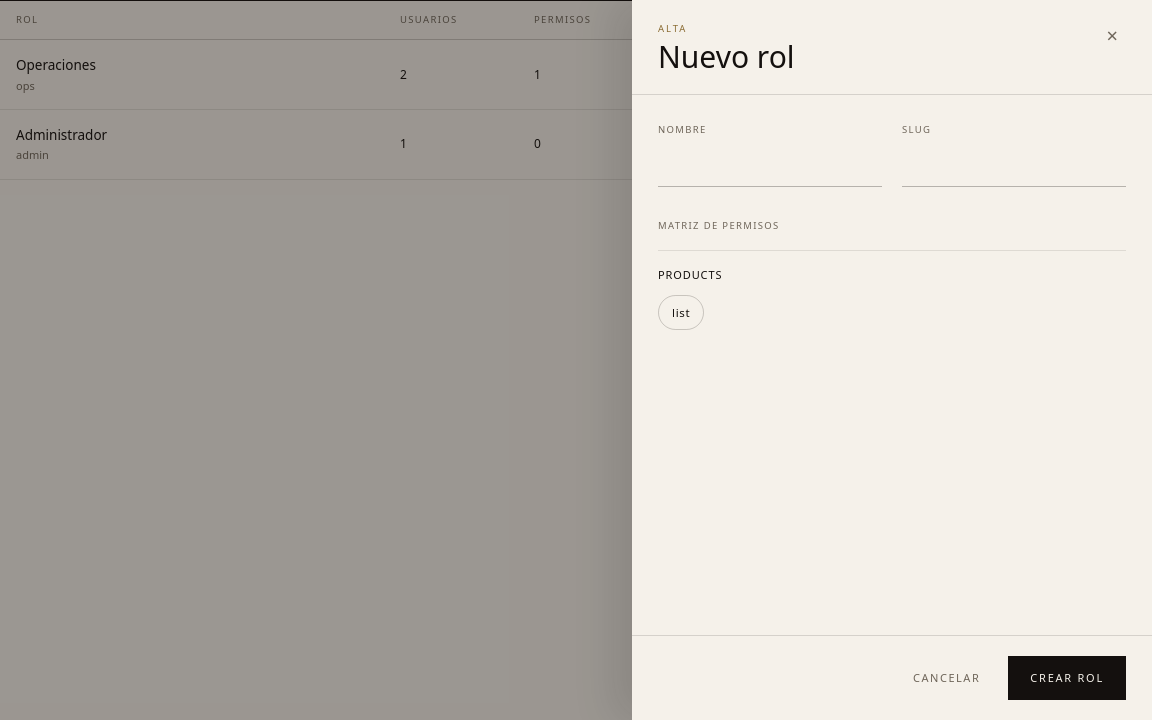
Test case: RolesPanel › opens create drawer from the creating flag and keeps it open on failure
Expected: the dialog is shown, [632,0,1151,719]
Type "Nuevo" into the field labelled "Nombre" at (770, 166), box [658,144,882,187]
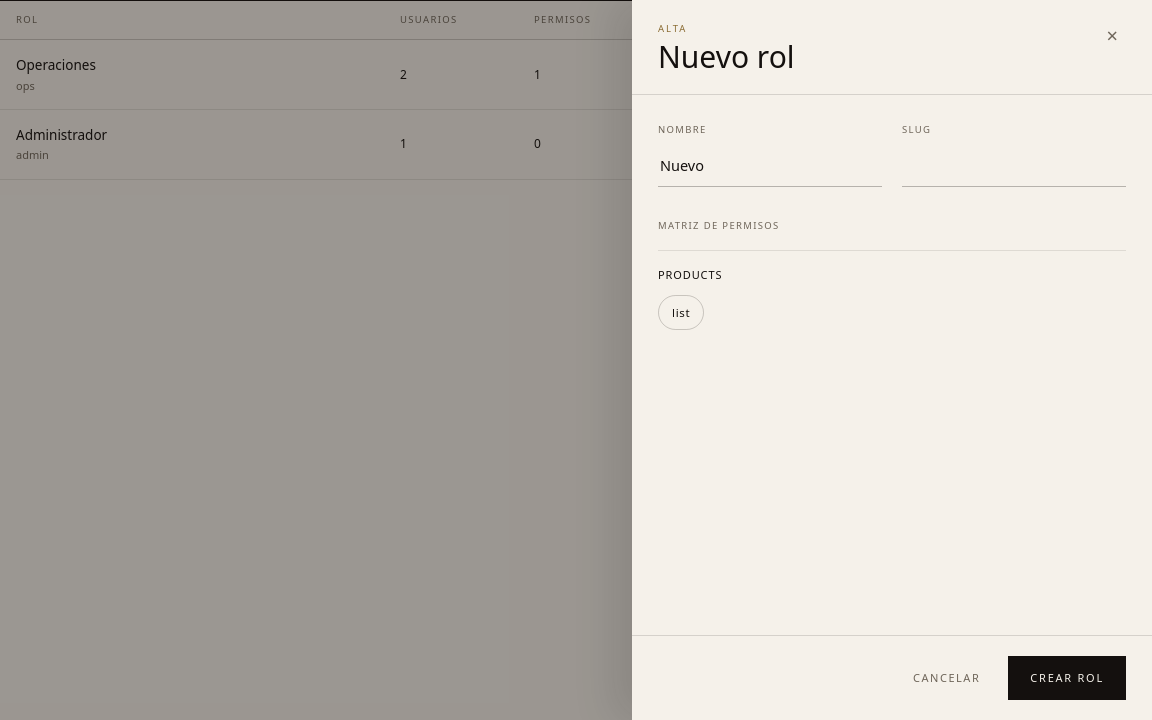
Type "nuevo" into the field labelled "Slug" at (1014, 166), box [902,144,1126,187]
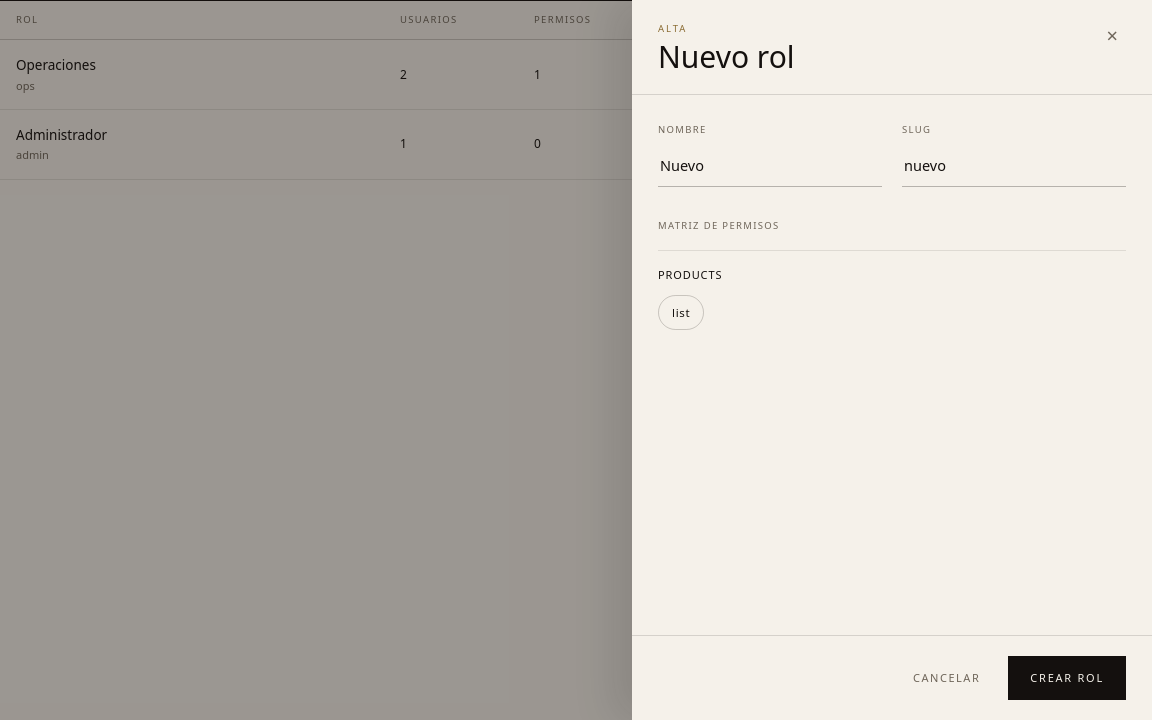
Click the button "Crear rol" at (1067, 678), box [1008,656,1126,700]
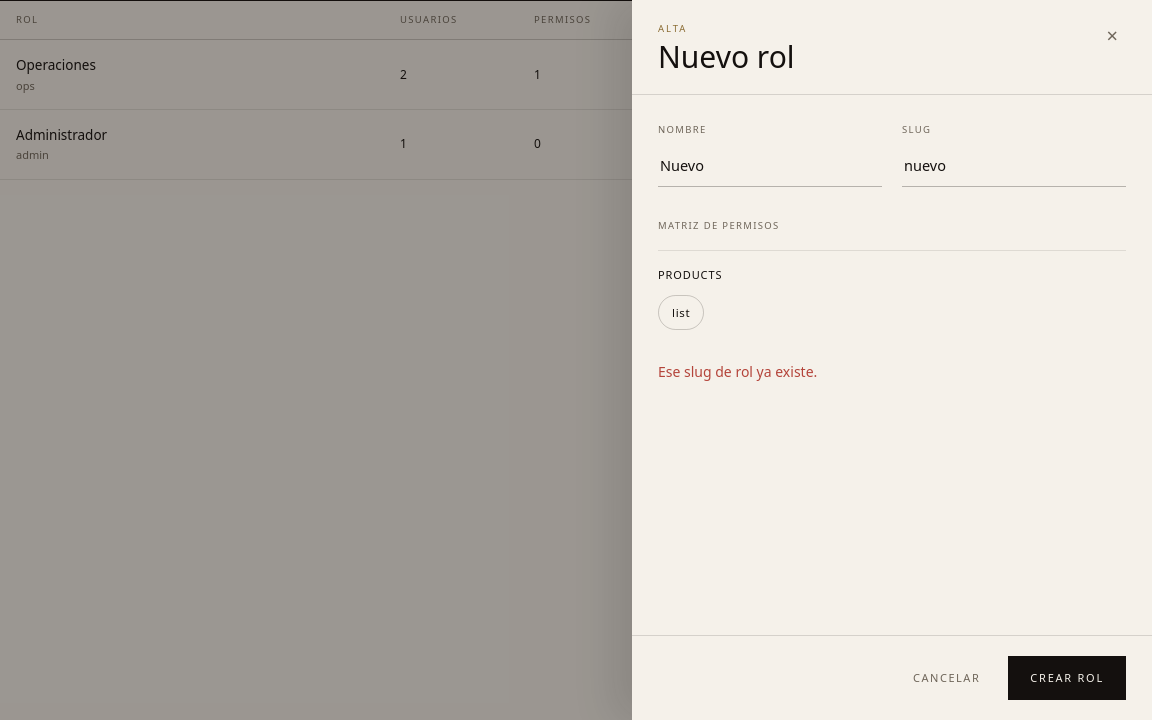
Expected: the dialog is shown, [632,0,1151,719]
Expected: the message reads "Ese slug de rol ya existe.", [658,362,817,381]
